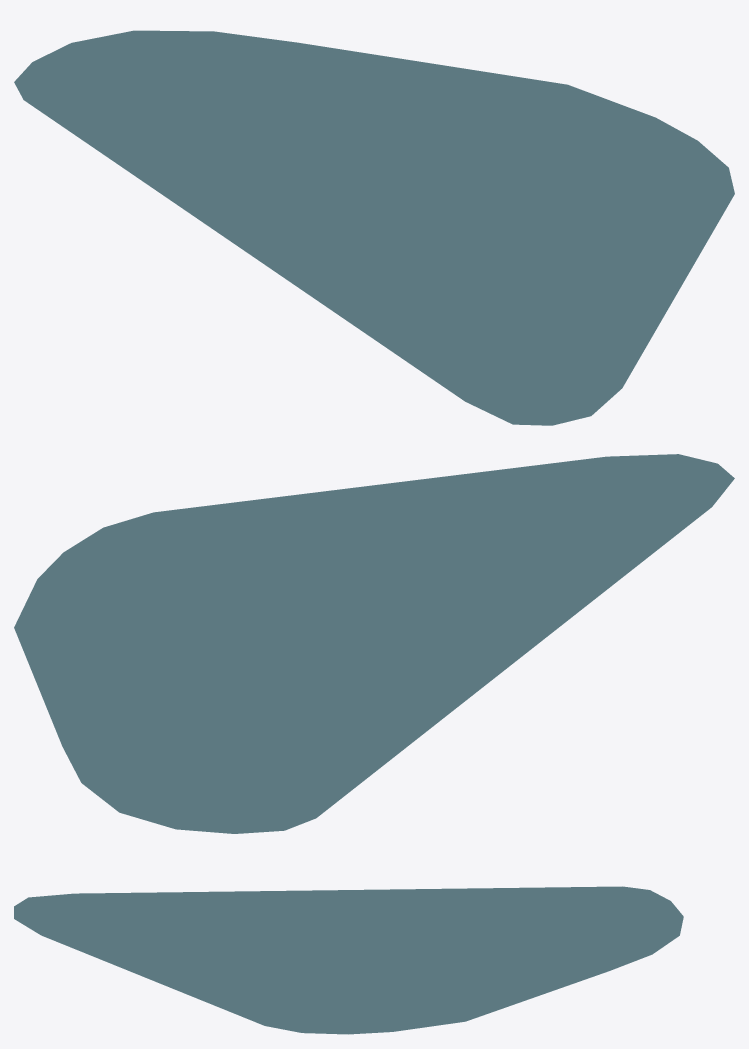
File: SM_MPR_Env_Far_E_water.fbx
3 views of the same model, one above another, from view 1: azimuth 30°, elevation 25°; view 2: azimuth 150°, elevation 25°; view 3: azimuth 270°, elevation 25° (orthographic). The views are drawn at different scales.
Parts seen in each view (by area): view 1: SM_MPR_Env_Far_E_water; view 2: SM_MPR_Env_Far_E_water; view 3: SM_MPR_Env_Far_E_water.
Part boxes in pixels (x1,y1,x2,y2): SM_MPR_Env_Far_E_water: (14, 30, 734, 425); SM_MPR_Env_Far_E_water: (14, 454, 734, 833); SM_MPR_Env_Far_E_water: (14, 886, 683, 1034).
Bounding box in the file's own units: 4514 × 9293 × 0.
